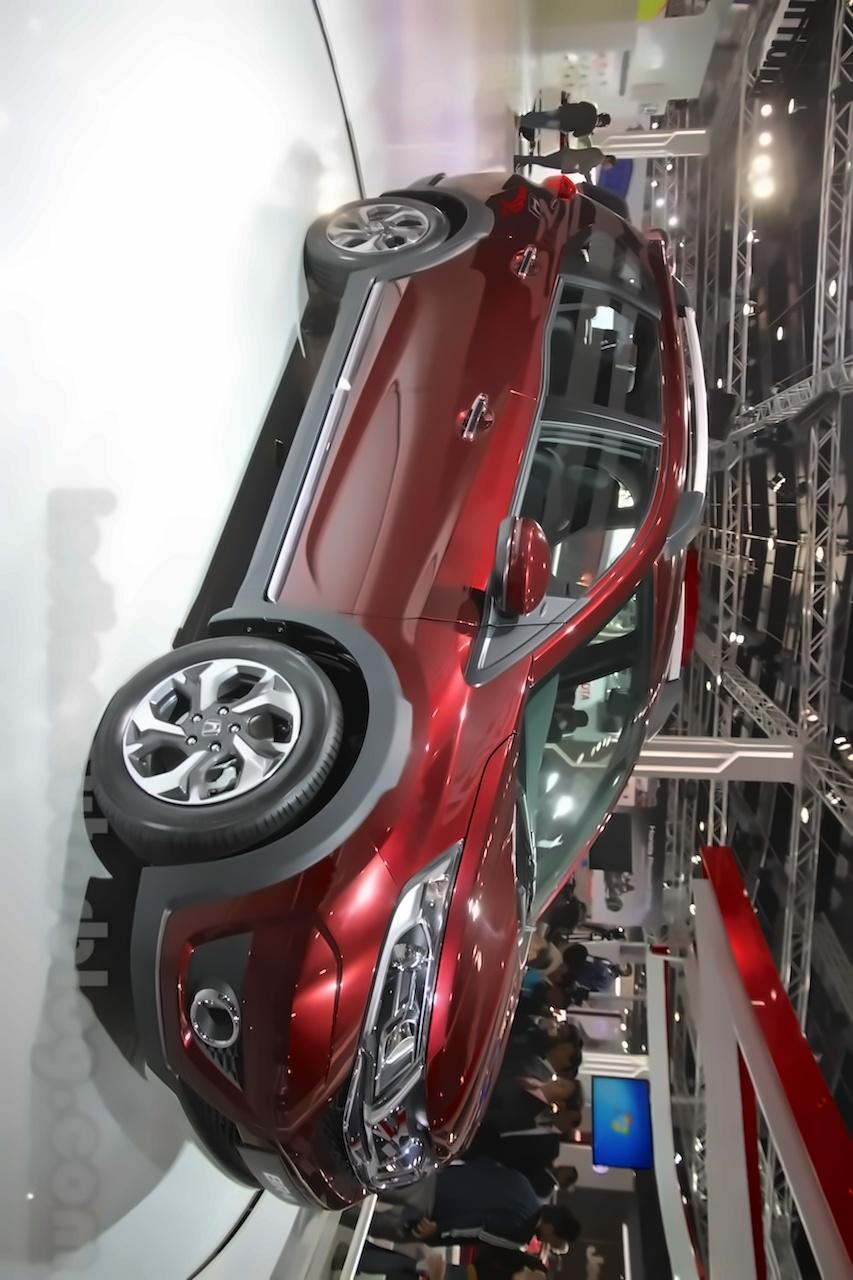Car hood: (415, 740, 532, 1178)
Driver-s door - -F-R-: (214, 376, 691, 645)
Fender - -F-R-: (180, 596, 543, 895)
Fender - -R-R-: (350, 170, 646, 266)
Front bumper: (120, 798, 408, 1253)
Headlight - -R-: (346, 840, 460, 1118)
Passenger-s door - -R-R-: (266, 228, 721, 476)
Side bumper - -R-: (224, 259, 403, 641)
Side mirror - -R-: (470, 506, 548, 634)
